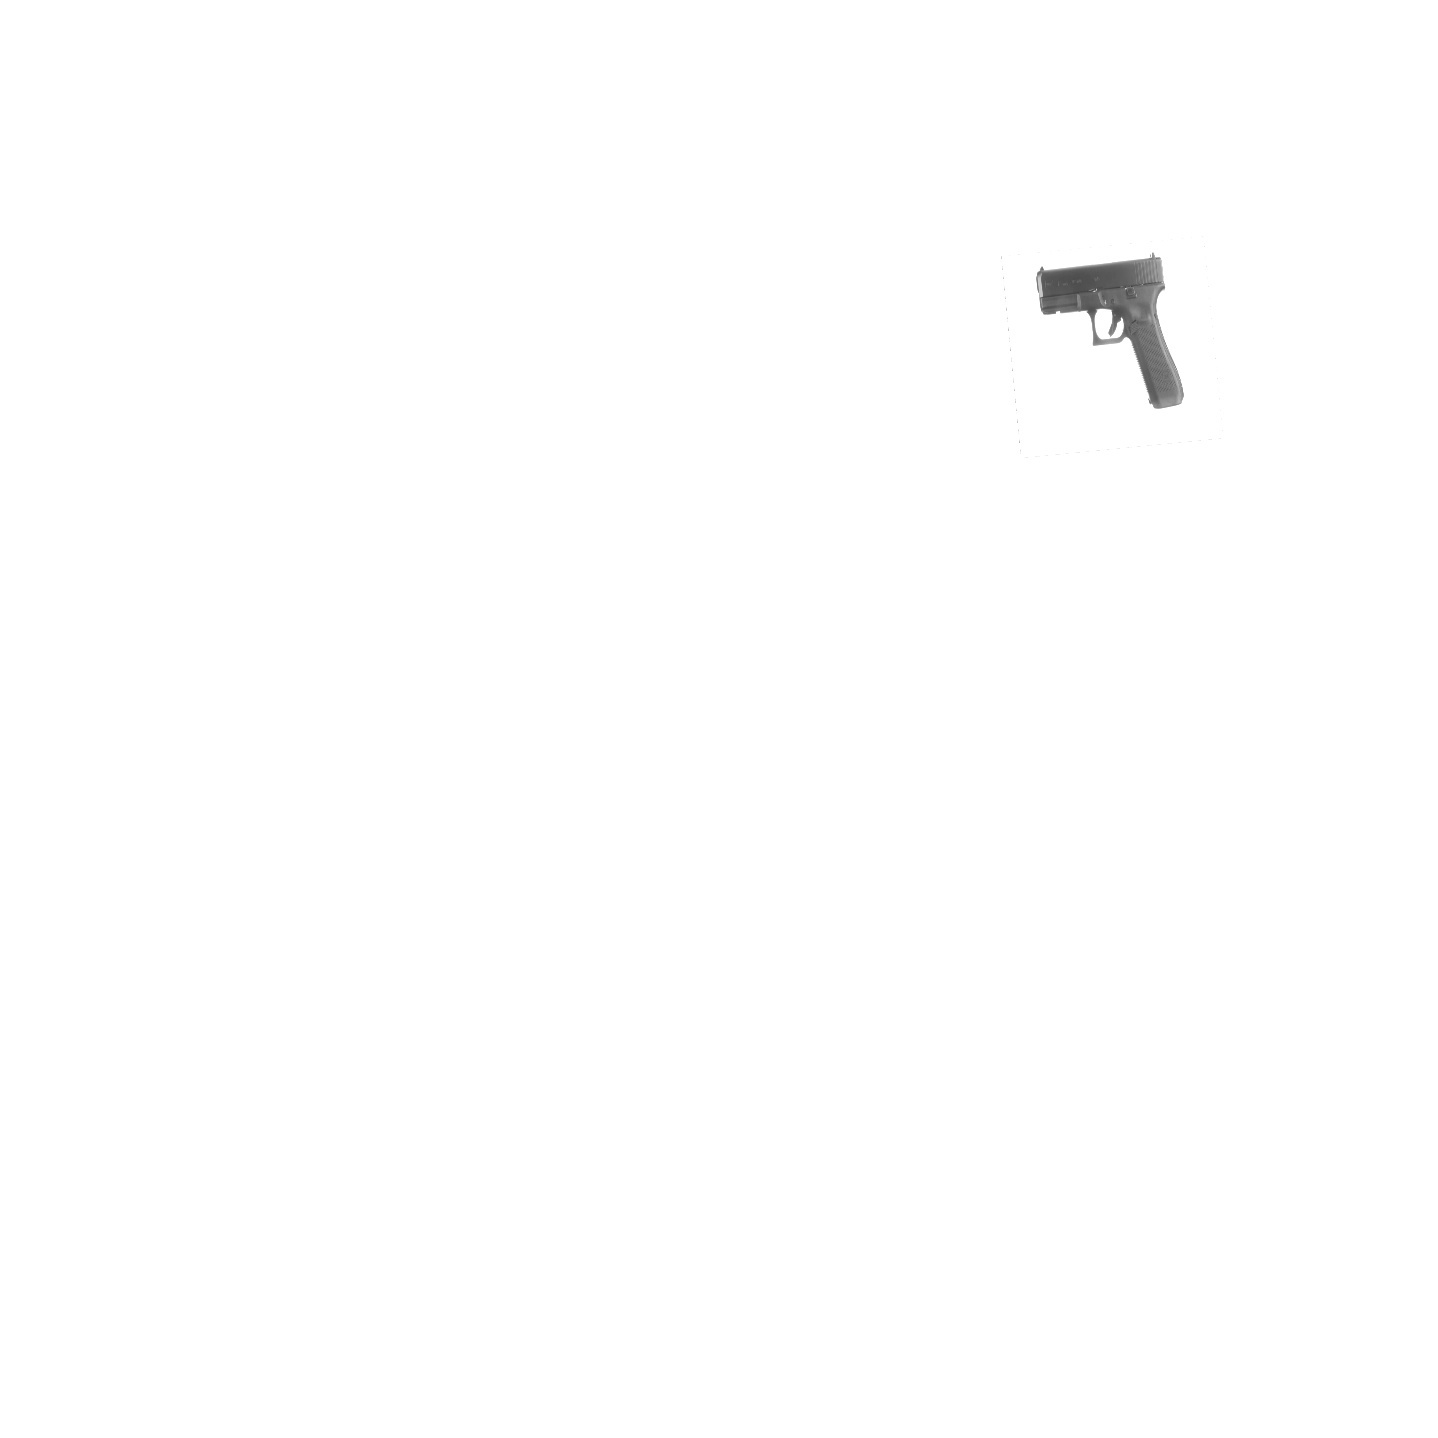gun: (1031, 248, 1192, 413)
